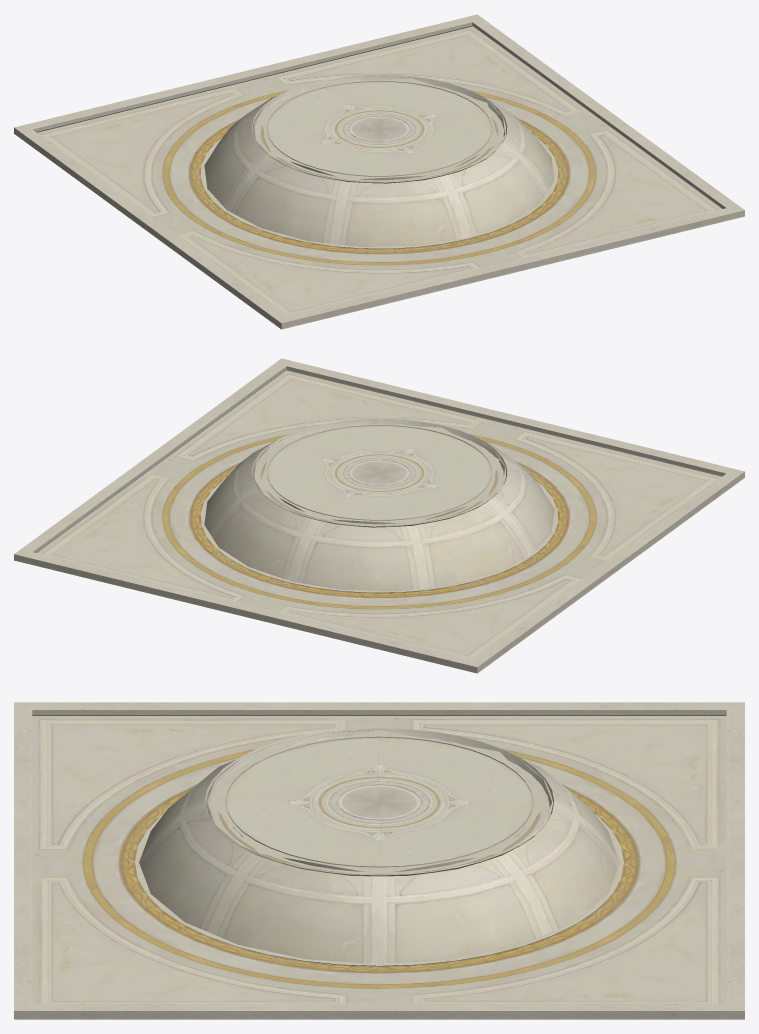
File: Homeworld_Interior_Fd_Room_Ceiling_04_Vo.fbx
3 renders of one model, top to bottom at view 1: azimuth 30°, elevation 25°; view 2: azimuth 150°, elevation 25°; view 3: azimuth 270°, elevation 25°, orthographic. The views are drawn at different scales.
Visible parts, largest first — view 1: Homeworld_Interior_Fd_Room_Ceiling_04_Vo; view 2: Homeworld_Interior_Fd_Room_Ceiling_04_Vo; view 3: Homeworld_Interior_Fd_Room_Ceiling_04_Vo.
Part boxes in pixels (x1,y1,x2,y2): Homeworld_Interior_Fd_Room_Ceiling_04_Vo: [14, 14, 744, 329]; Homeworld_Interior_Fd_Room_Ceiling_04_Vo: [14, 358, 744, 673]; Homeworld_Interior_Fd_Room_Ceiling_04_Vo: [14, 702, 744, 1019].
Size of the model in its own units: 15.22 by 1.6 by 15.22.
